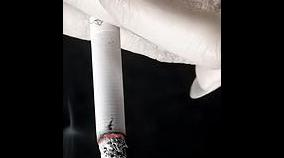Cigarette: (88, 15, 129, 158)
